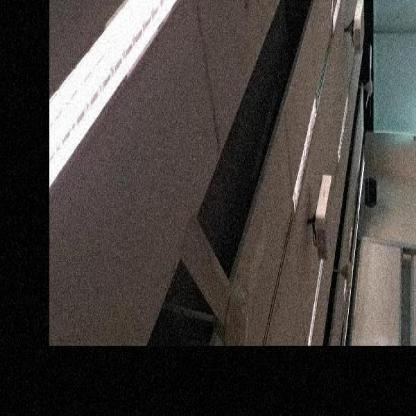light_on: (49, 0, 205, 207), (288, 90, 322, 213), (303, 254, 332, 346), (335, 94, 351, 167), (327, 0, 350, 32)
